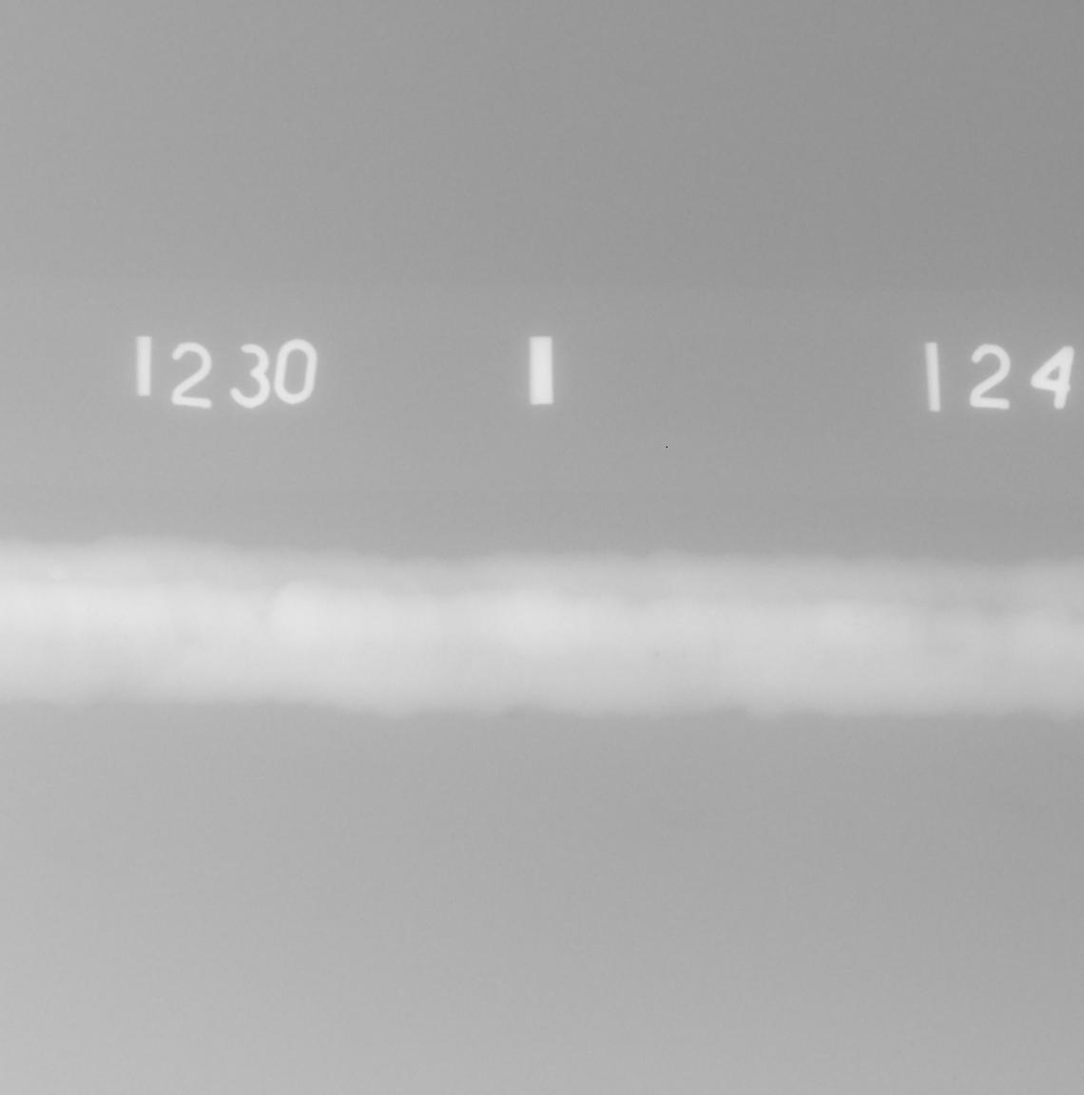Pore/Porosity: (654, 653, 659, 658), (681, 653, 687, 657)
